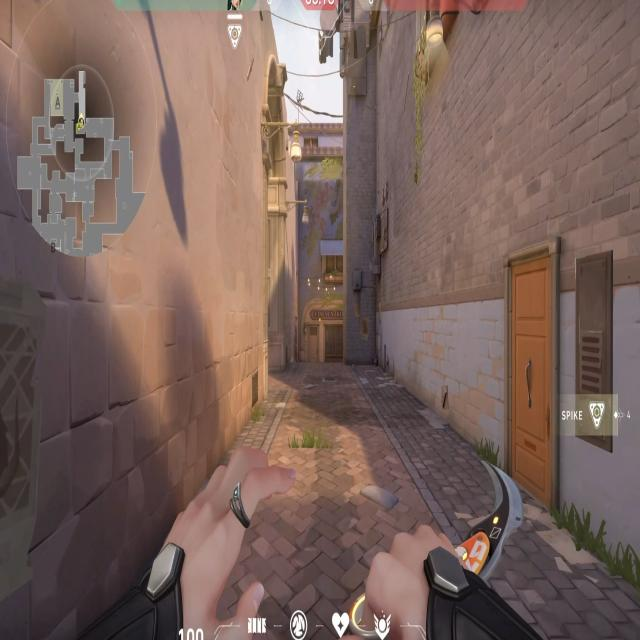Wine: (280, 271, 366, 390)
